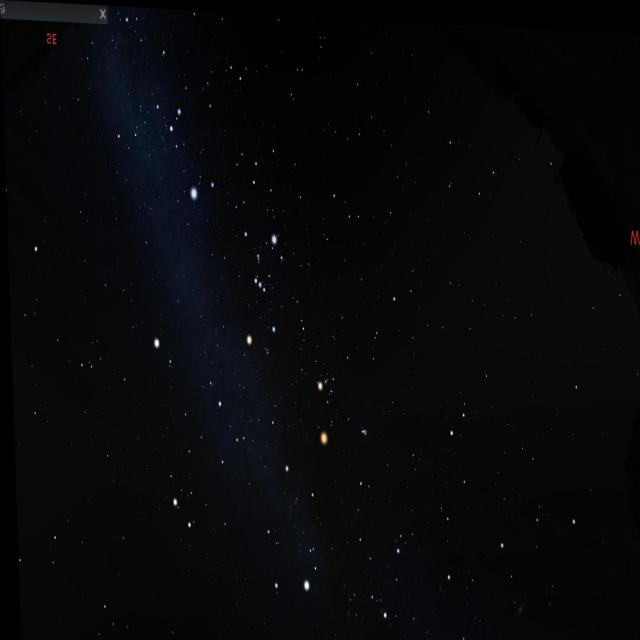canis_major: (168, 93, 220, 211)
canis_minor: (150, 325, 175, 373)
gemini: (154, 375, 248, 550)
orion: (234, 216, 287, 352)
pleiades: (356, 416, 368, 443)
taurus: (302, 334, 379, 447)
